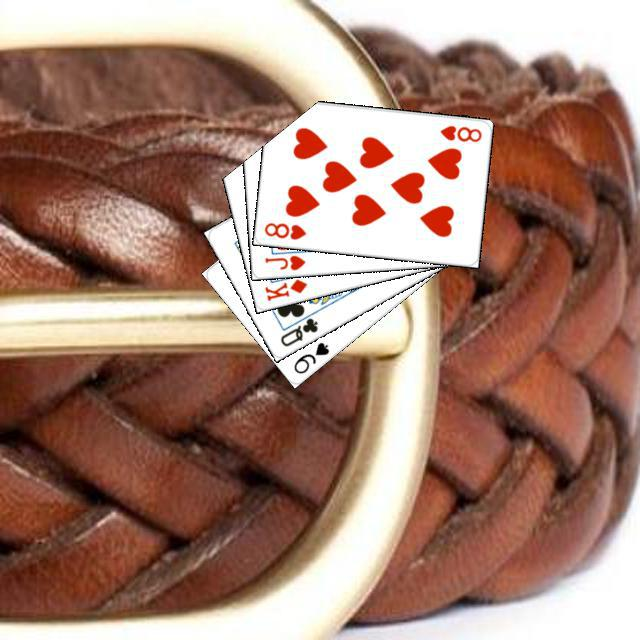8h: (259, 217, 307, 241), (435, 120, 483, 144)
9s: (288, 337, 331, 376)
Jh: (260, 251, 307, 272)
Kd: (260, 274, 309, 303)
Qc: (275, 306, 320, 348)
